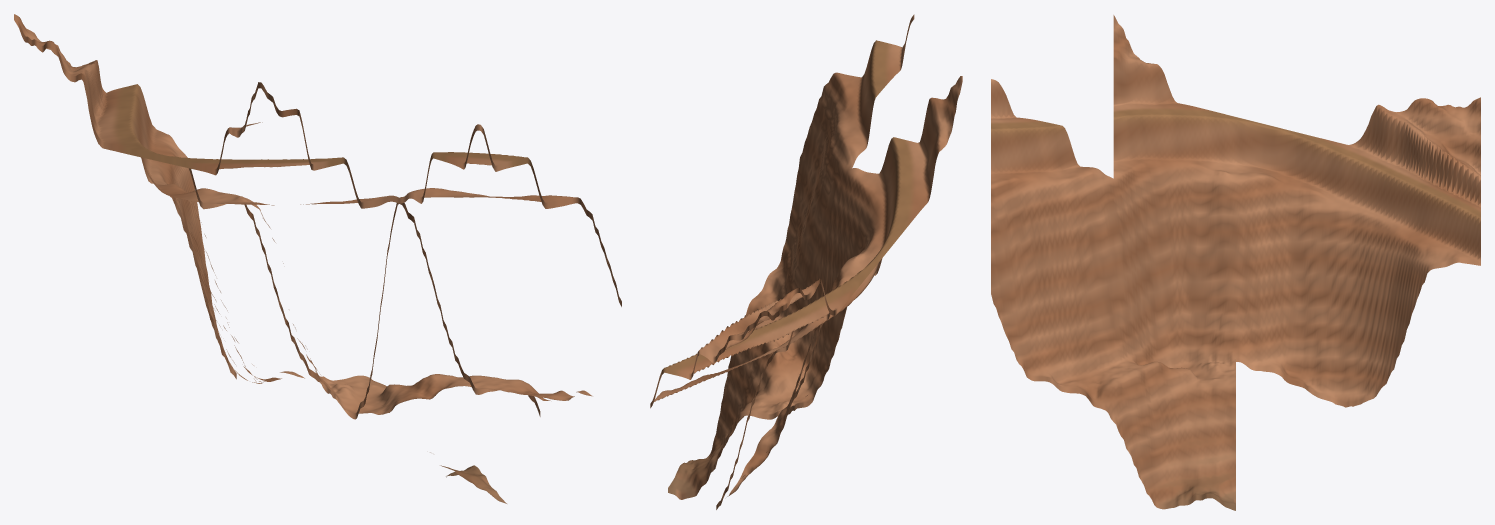
Rendered from terrain-020.glb.
3 views of the same model, side by side, from view 1: azimuth 30°, elevation 25°; view 2: azimuth 150°, elevation 25°; view 3: azimuth 270°, elevation 25° (orthographic). The views are drawn at different scales.
Parts seen in each view (by area): view 1: terrain-020; view 2: terrain-020; view 3: terrain-020.
Part boxes in pixels (x1,y1,x2,y2): terrain-020: [14, 14, 621, 503]; terrain-020: [650, 14, 962, 509]; terrain-020: [991, 15, 1480, 510].
Size of the model in its own units: 192 by 343 by 384.
